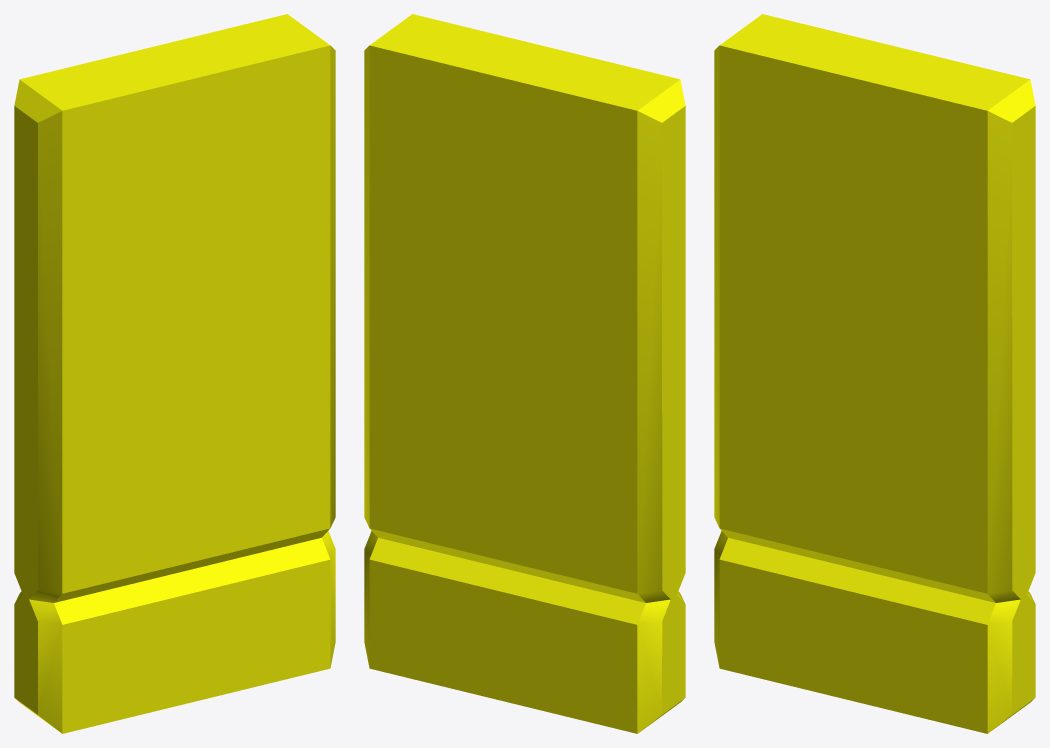
Rendered from kaykit-prototype-wall-half.glb.
The picture shows the model from 3 angles, left to right: view 1: azimuth 30°, elevation 25°; view 2: azimuth 150°, elevation 25°; view 3: azimuth 330°, elevation 25°; orthographic projection.
Parts seen in each view (by area): view 1: Wall_Half; view 2: Wall_Half; view 3: Wall_Half.
Part boxes in pixels (x1,y1,x2,y2): Wall_Half: (14,14,335,733); Wall_Half: (364,14,685,733); Wall_Half: (714,14,1035,733).
Bounding box in the file's own units: 2 × 4 × 0.5298.
